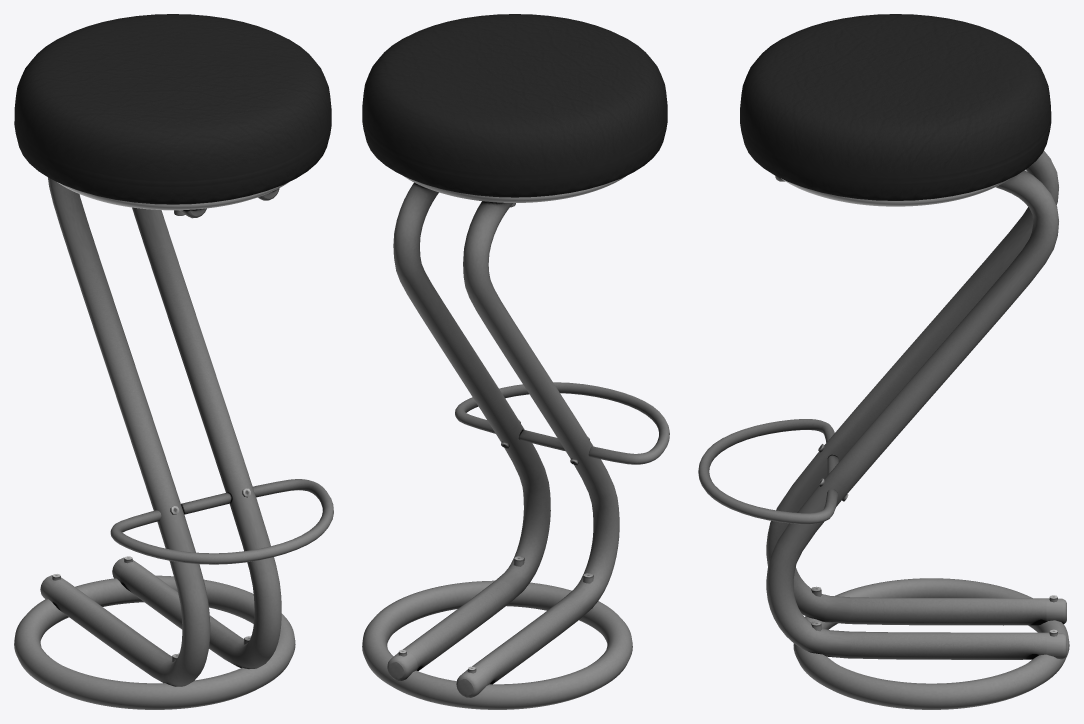
File: Bar_chair_2.obj
3 views of the same model, side by side, from view 1: azimuth 30°, elevation 25°; view 2: azimuth 150°, elevation 25°; view 3: azimuth 270°, elevation 25° (orthographic). The views are drawn at different scales.
Visible parts, largest first — view 1: Bar_Chair_Cube_001; view 2: Bar_Chair_Cube_001; view 3: Bar_Chair_Cube_001.
Boxes of the visible parts, bbox=[...] form: Bar_Chair_Cube_001: bbox=[14, 14, 333, 709]; Bar_Chair_Cube_001: bbox=[362, 14, 669, 709]; Bar_Chair_Cube_001: bbox=[698, 14, 1069, 709].
Bounding box in the file's own units: 1.58 × 3.31 × 1.89.
